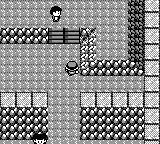captura: (0, 140, 33, 144)
main: (63, 60, 79, 76)
no-caminable: (81, 1, 159, 143), (81, 0, 144, 76), (81, 108, 144, 139), (1, 107, 48, 140), (0, 29, 48, 45), (0, 92, 48, 107)
npc: (49, 5, 62, 23), (32, 134, 48, 143)
